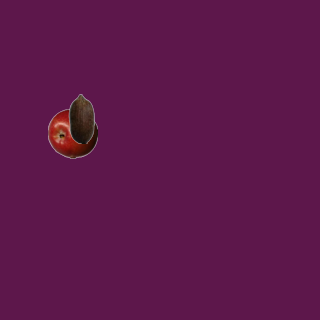Apple Braeburn: (47, 108, 97, 158)
Nut Pecan: (56, 93, 106, 143)
